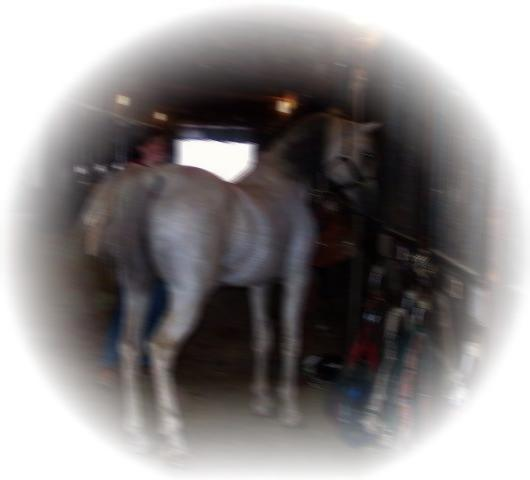horse: (73, 104, 382, 463)
